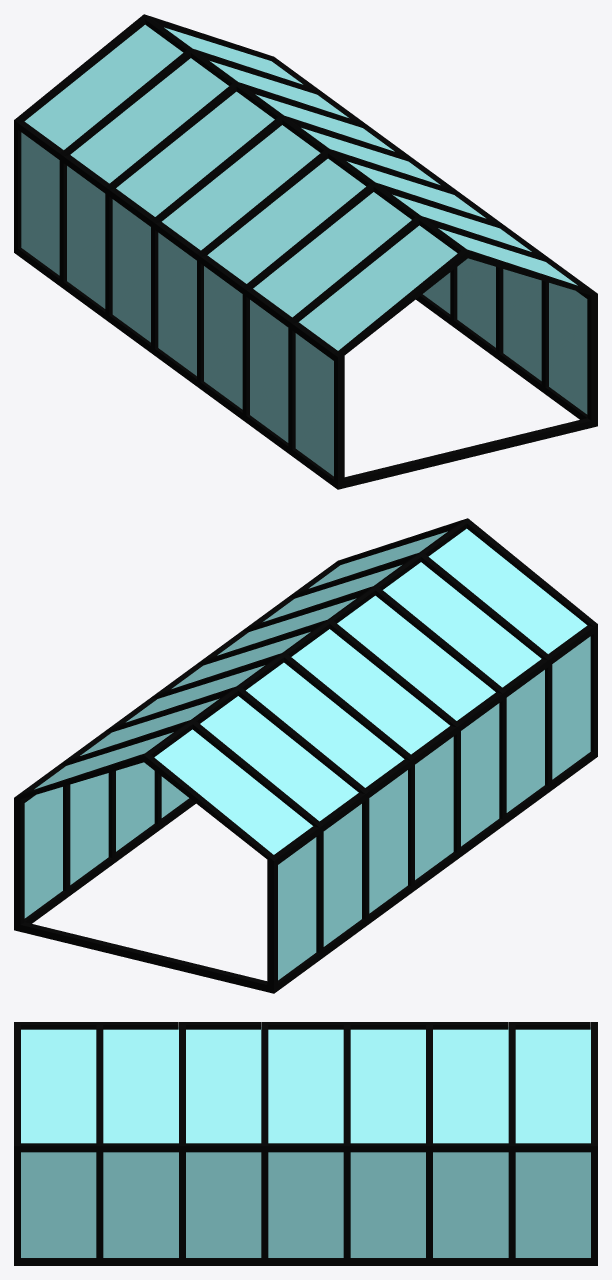
Rendered from GreenHouse.fbx.
The picture shows the model from 3 angles, top to bottom: view 1: azimuth 30°, elevation 25°; view 2: azimuth 150°, elevation 25°; view 3: azimuth 270°, elevation 25°; orthographic projection. The views are drawn at different scales.
Parts seen in each view (by area): view 1: Paredes, Pilares, Base 2, Base 3, Base 1; view 2: Paredes, Pilares, Base 2, Base 4, Base 1; view 3: Paredes, Pilares, Base 1.
Part boxes in pixels (bbox=[...]): Paredes: bbox=[21, 24, 587, 476]; Pilares: bbox=[14, 14, 597, 482]; Base 2: bbox=[14, 246, 344, 489]; Base 3: bbox=[344, 418, 591, 487]; Base 1: bbox=[416, 294, 597, 427]; Paredes: bbox=[24, 528, 590, 980]; Pilares: bbox=[14, 518, 597, 986]; Base 2: bbox=[267, 750, 597, 993]; Base 4: bbox=[20, 922, 267, 991]; Base 1: bbox=[14, 798, 195, 931]; Paredes: bbox=[21, 1027, 590, 1257]; Pilares: bbox=[14, 1022, 597, 1259]; Base 1: bbox=[14, 1258, 597, 1265].
Bounding box in the file's own units: 1232 × 936 × 2657.
